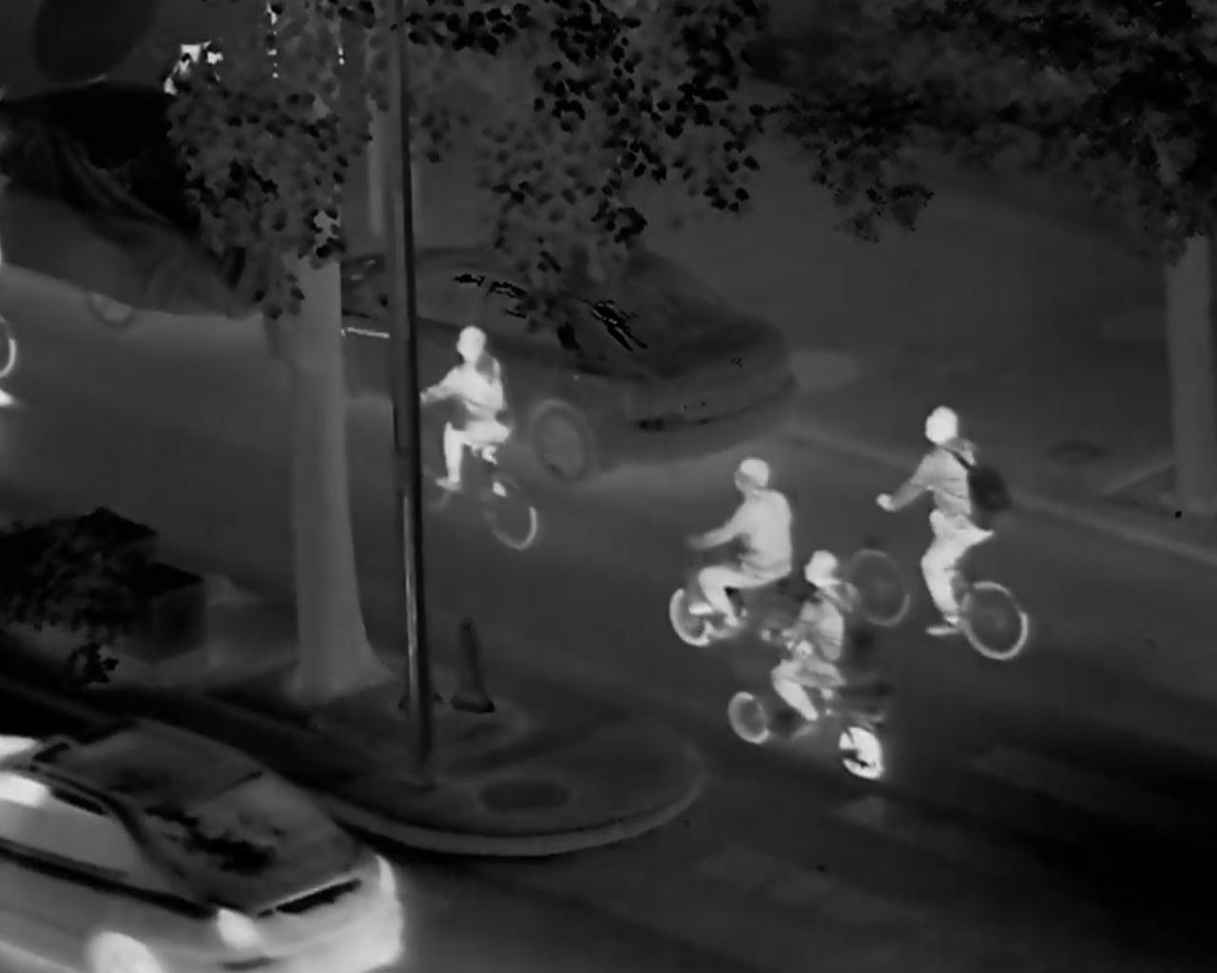person: (876, 409, 999, 639), (688, 457, 794, 624), (414, 325, 507, 492), (771, 547, 850, 726)
